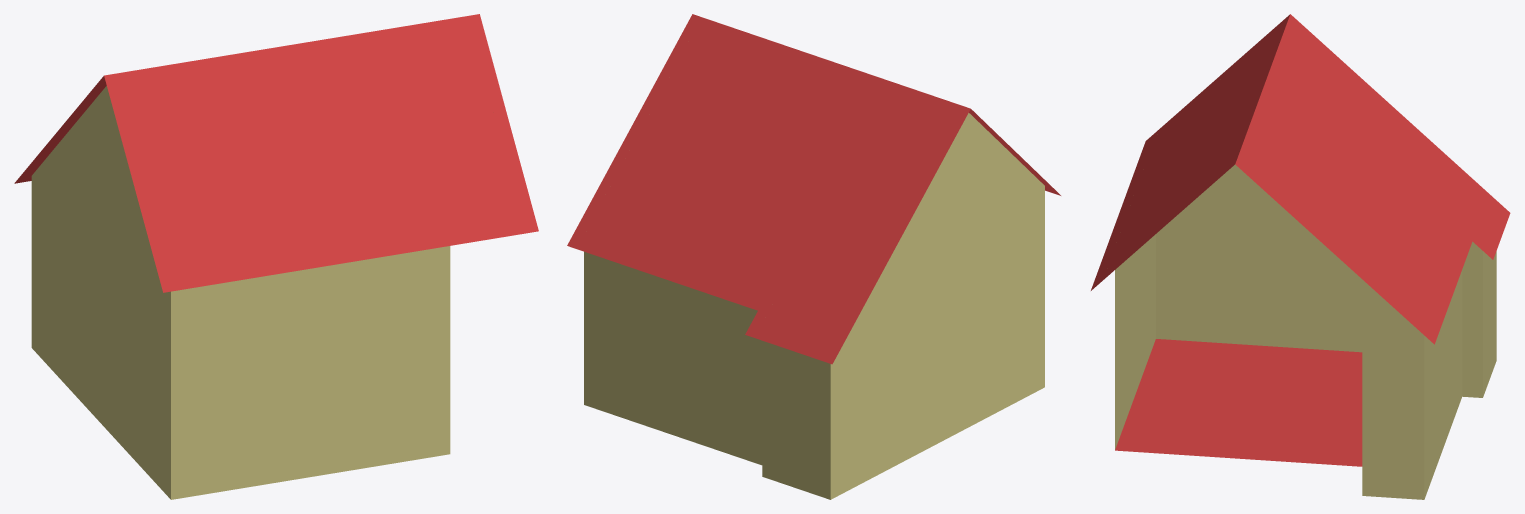
3 views of the same model, side by side, from view 1: azimuth 30°, elevation 25°; view 2: azimuth 150°, elevation 25°; view 3: azimuth 270°, elevation 25° (orthographic). The views are drawn at different scales.
Size of the model in its own units: 16.68 by 17.11 by 14.76.
